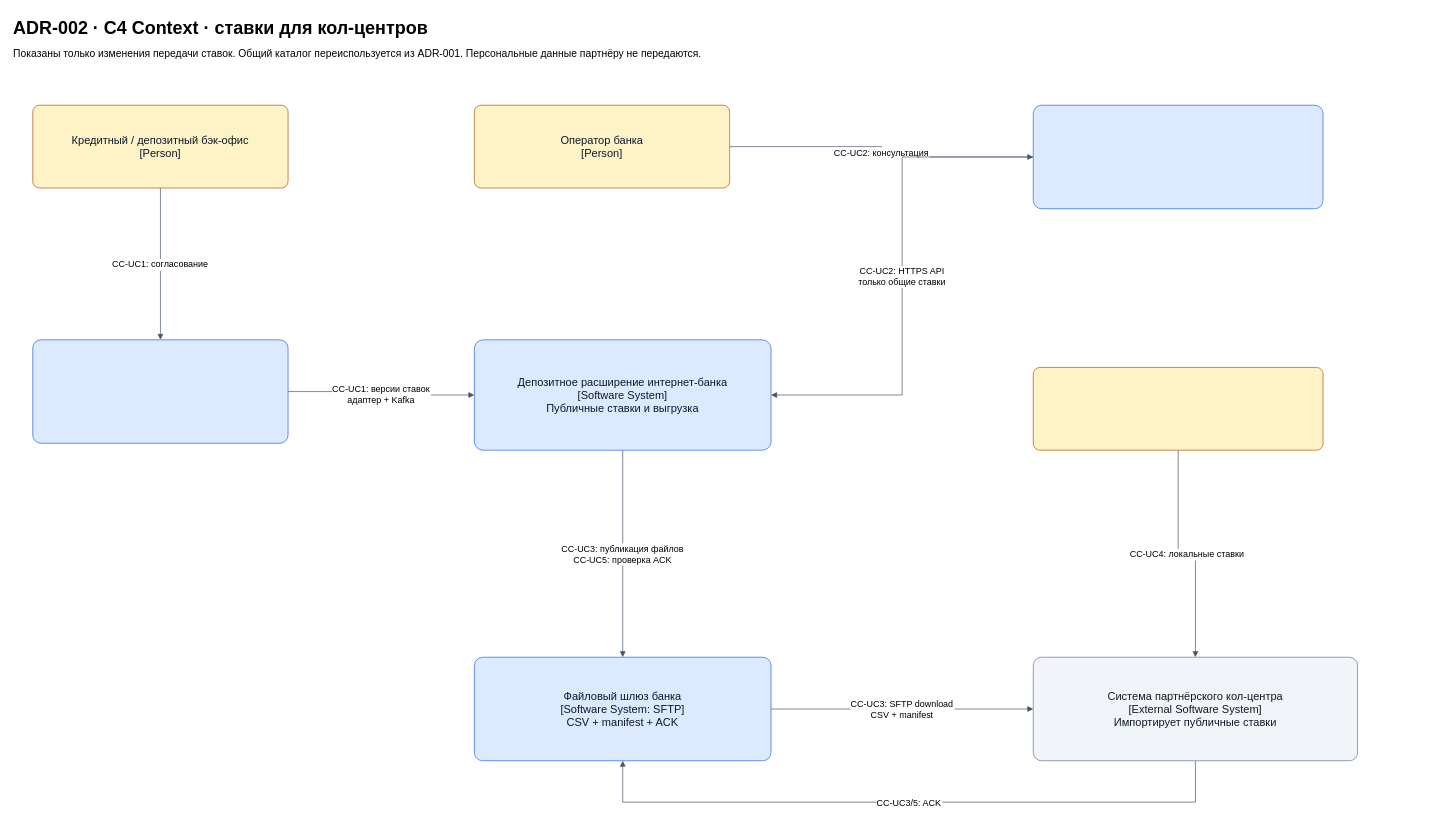
This 1438x820 diagram has some shape labels left out. The shapes that lost their labels are listed below. From the top down, each one's centre as x and y in pixels, then its label:
the point at 1178,157: Система кол-центра банка [Software System] Показывает актуальную версию
the point at 160,391: АБС [Software System] Утверждает версии ставок
the point at 1178,408: Оператор партнёра [Person]
